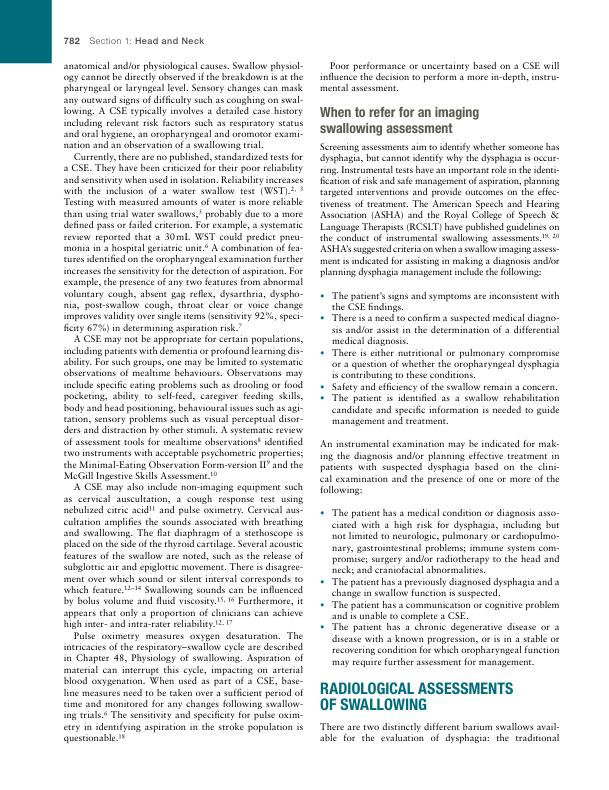header: (89, 35, 205, 46)
list: (318, 506, 560, 668), (318, 290, 560, 427)
section-heading: (318, 680, 515, 712)
sub-section-heading: (318, 104, 480, 138)
text: (62, 61, 305, 745), (318, 141, 561, 279), (318, 438, 561, 497), (318, 60, 562, 93), (318, 721, 560, 745)
